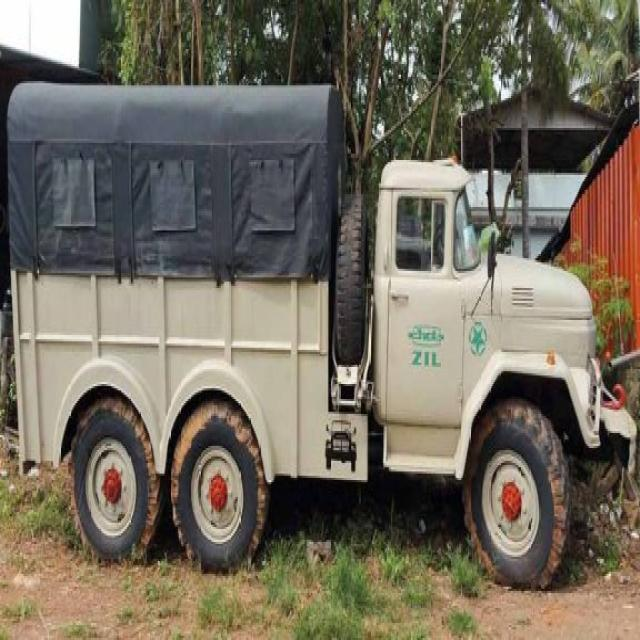truck: (10, 84, 635, 586)
